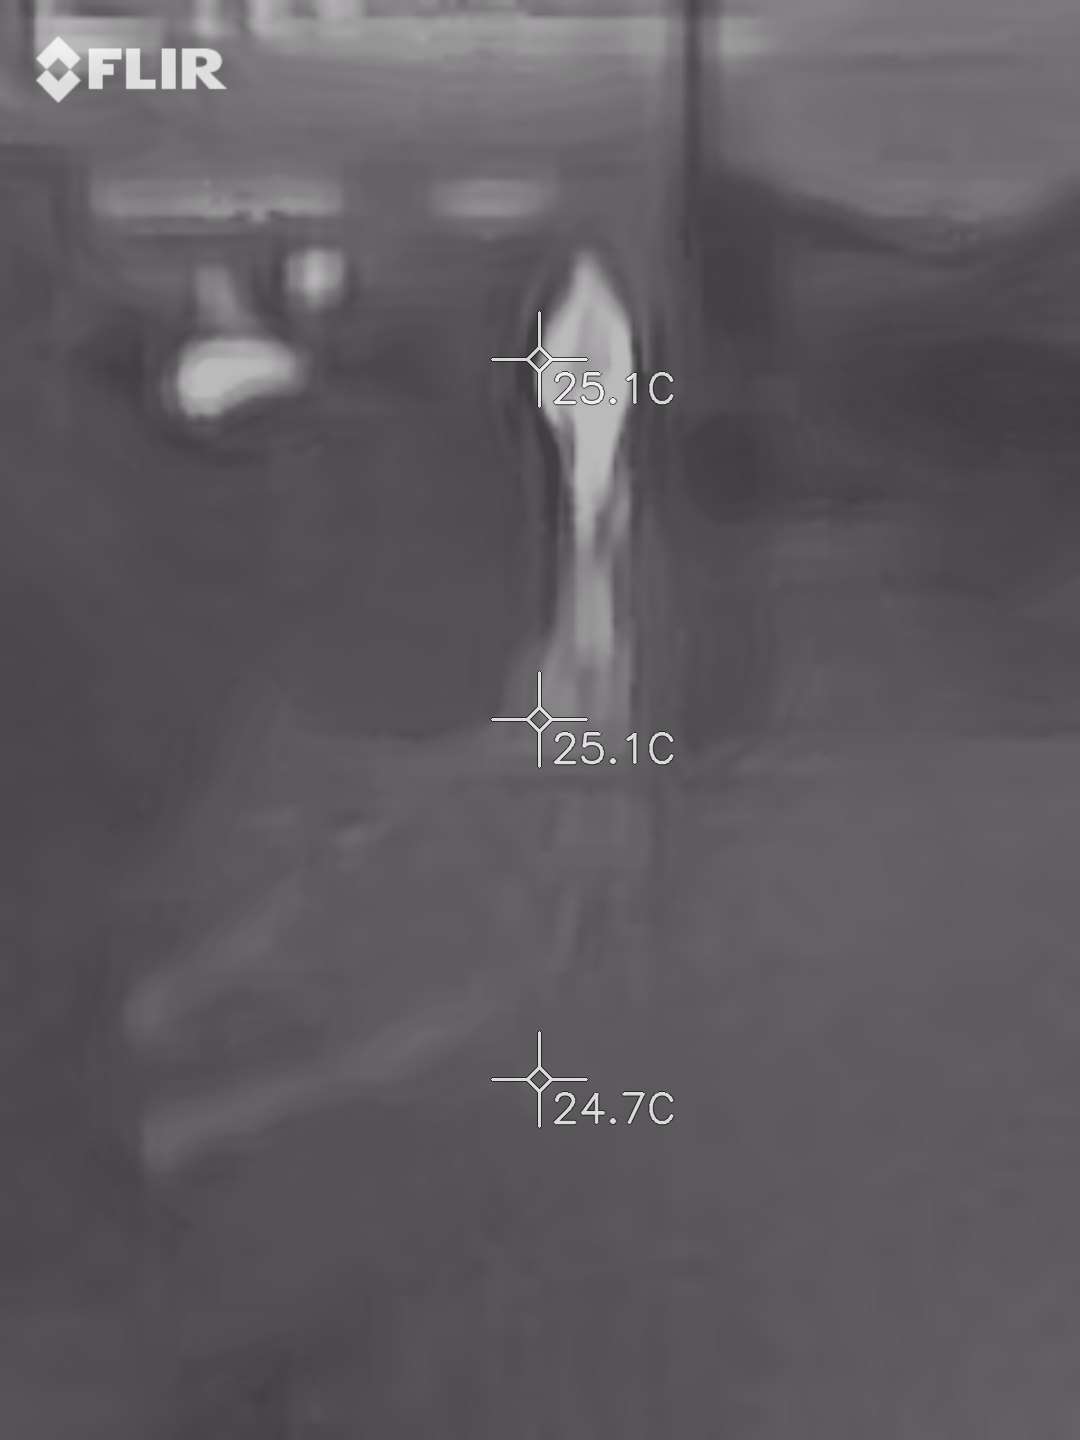head: (566, 250, 608, 296)
